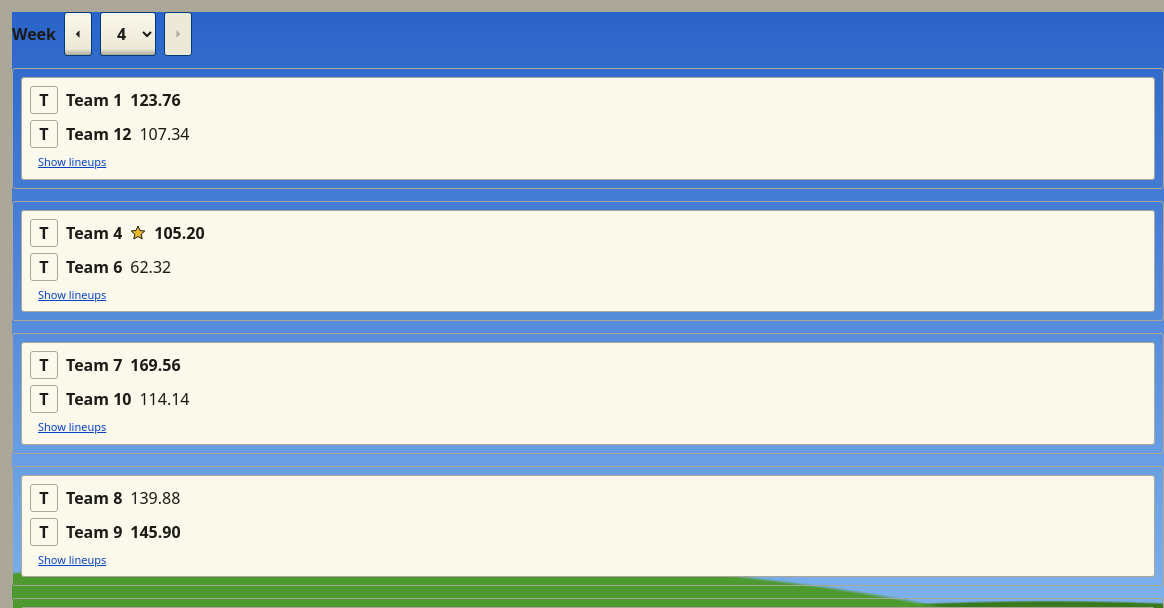
Test: Scores › still shows lineups by id when the player list fails
Click the button "T Team 1 123.76 T Team 12 107.34 Show lineups": (94, 100) top-left (21, 77), bottom-right (1155, 180)
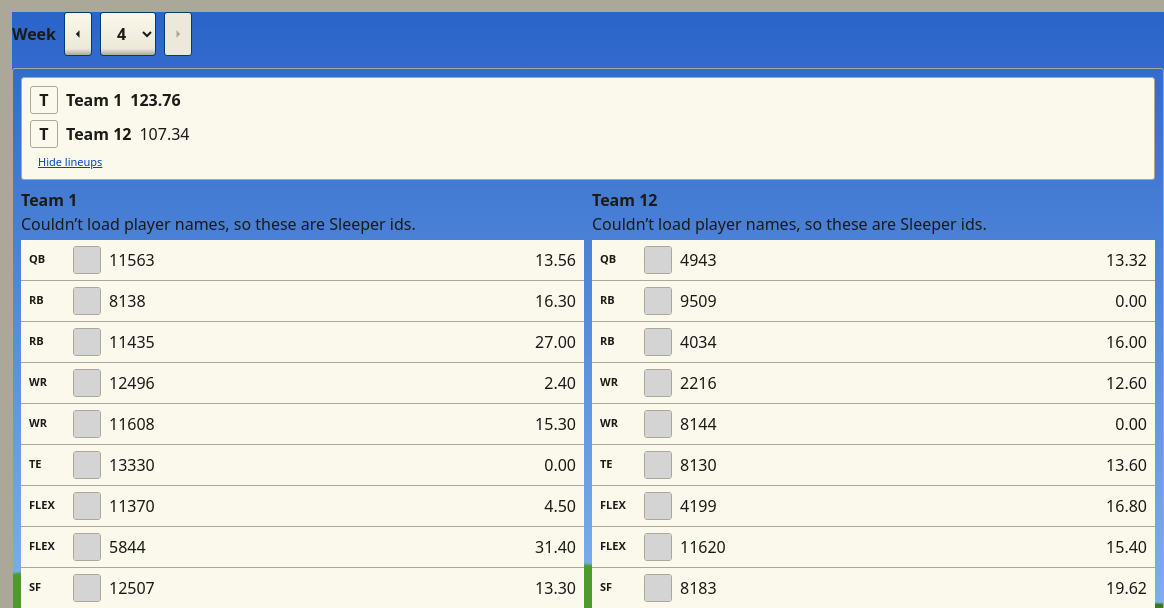
Now the 1st message "Couldn’t load player names, so these are Sleeper ids." is shown, box top-left (21, 212), bottom-right (416, 234)
